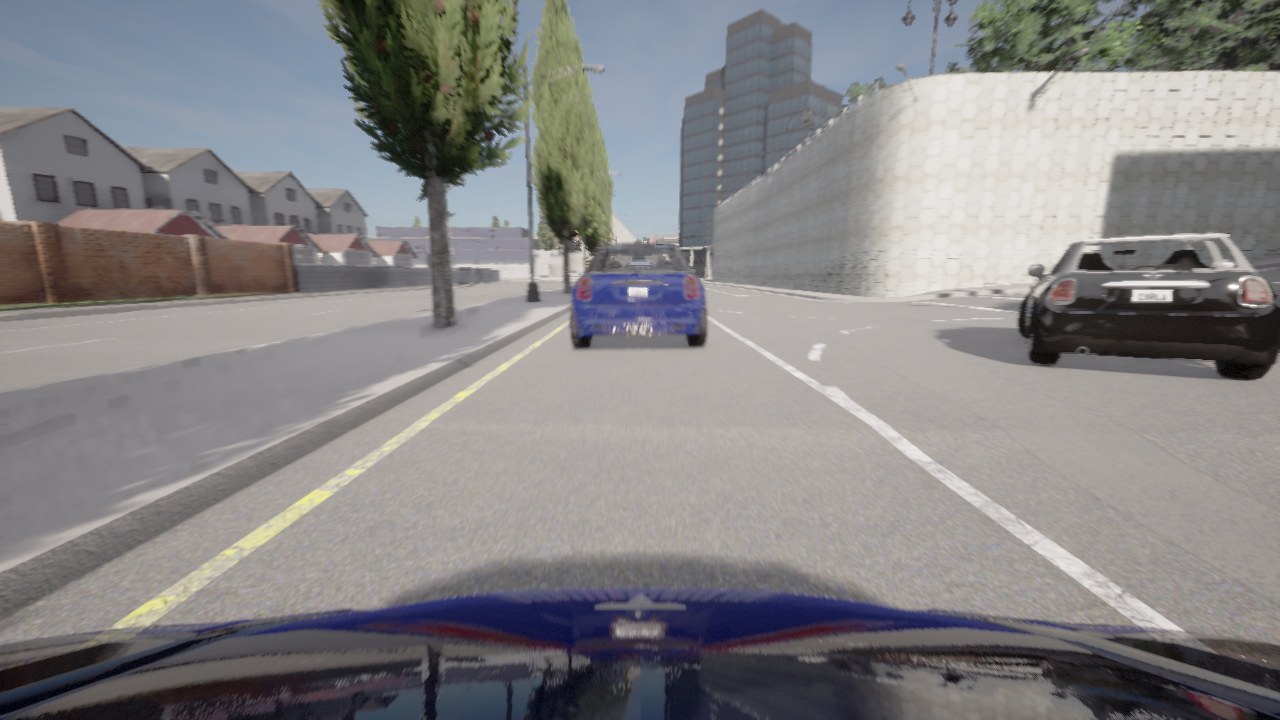cyclist: (0, 588, 1279, 719), (1018, 234, 1279, 379), (570, 235, 706, 348)
